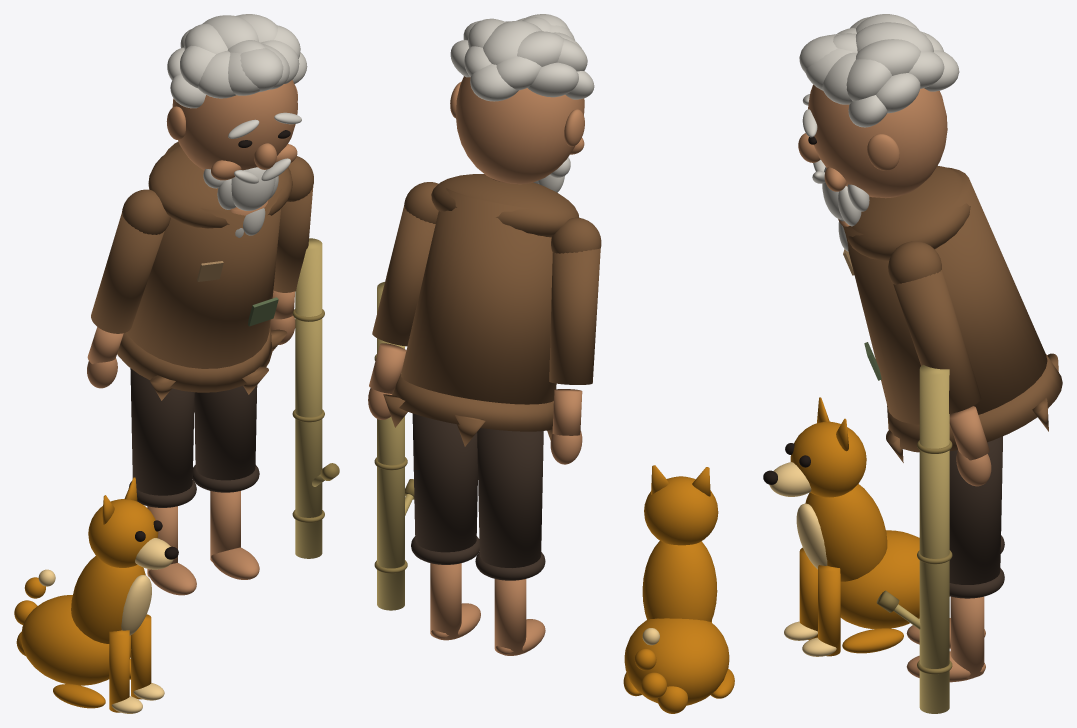
Rendered from lao_hac.glb.
3 views of the same model, side by side, from view 1: azimuth 30°, elevation 25°; view 2: azimuth 150°, elevation 25°; view 3: azimuth 270°, elevation 25° (orthographic). The views are drawn at different scales.
Visible parts, largest first — view 1: LaoHac, CauVang; view 2: LaoHac, CauVang; view 3: LaoHac, CauVang.
Part boxes in pixels (bbox=[...]): LaoHac: bbox=[87, 14, 339, 595]; CauVang: bbox=[14, 477, 178, 713]; LaoHac: bbox=[368, 14, 601, 655]; CauVang: bbox=[623, 465, 734, 713]; LaoHac: bbox=[798, 14, 1062, 713]; CauVang: bbox=[763, 397, 919, 656].
Bounding box in the file's own units: 0.8512 × 1.62 × 0.6411.
